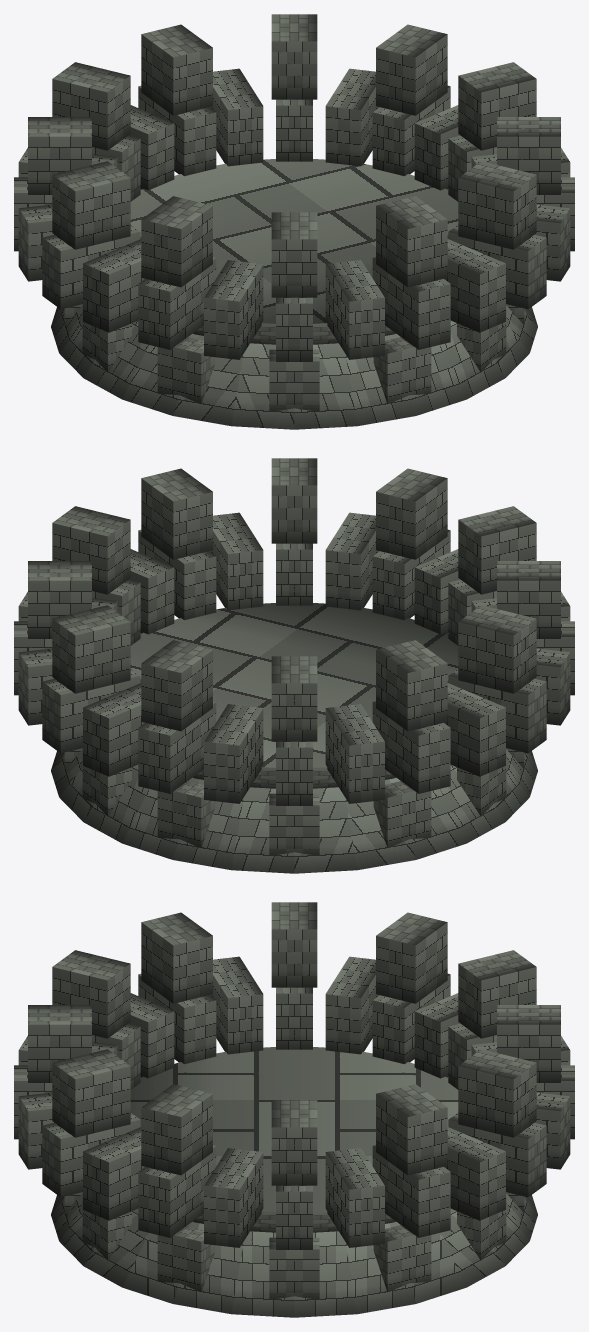
The model's file is cap_crenel.gltf.
3 renders of one model, top to bottom at view 1: azimuth 30°, elevation 25°; view 2: azimuth 150°, elevation 25°; view 3: azimuth 270°, elevation 25°, orthographic.
Parts seen in each view (by area): view 1: cap_crenel; view 2: cap_crenel; view 3: cap_crenel.
Boxes of the visible parts, x1,y1,x2,y2 form: cap_crenel: (14, 14, 574, 429); cap_crenel: (14, 458, 574, 873); cap_crenel: (14, 902, 574, 1317).
Size of the model in its own units: 1.22 by 0.48 by 1.22.
Materials: 1 (1 with a texture image).
